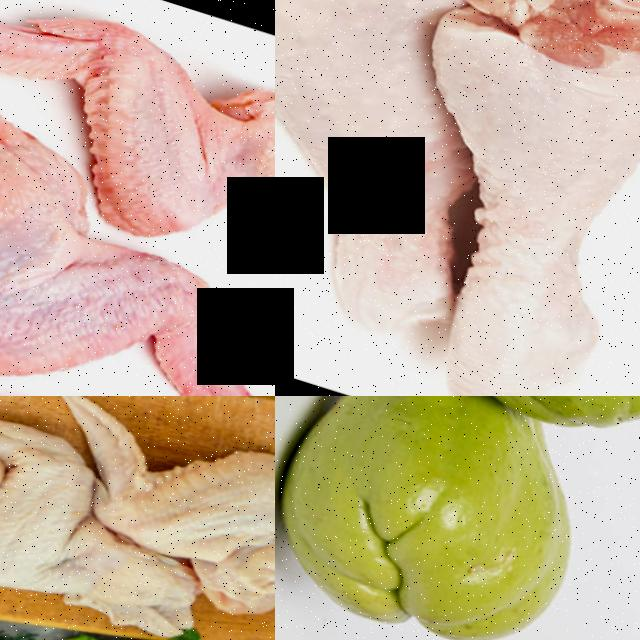chayote: (275, 396, 611, 640), (298, 396, 640, 461)
chicken thigh: (337, 0, 640, 396), (275, 0, 577, 337)
chicken wing: (0, 0, 275, 270), (0, 140, 275, 396), (0, 408, 195, 635), (67, 396, 275, 597)
